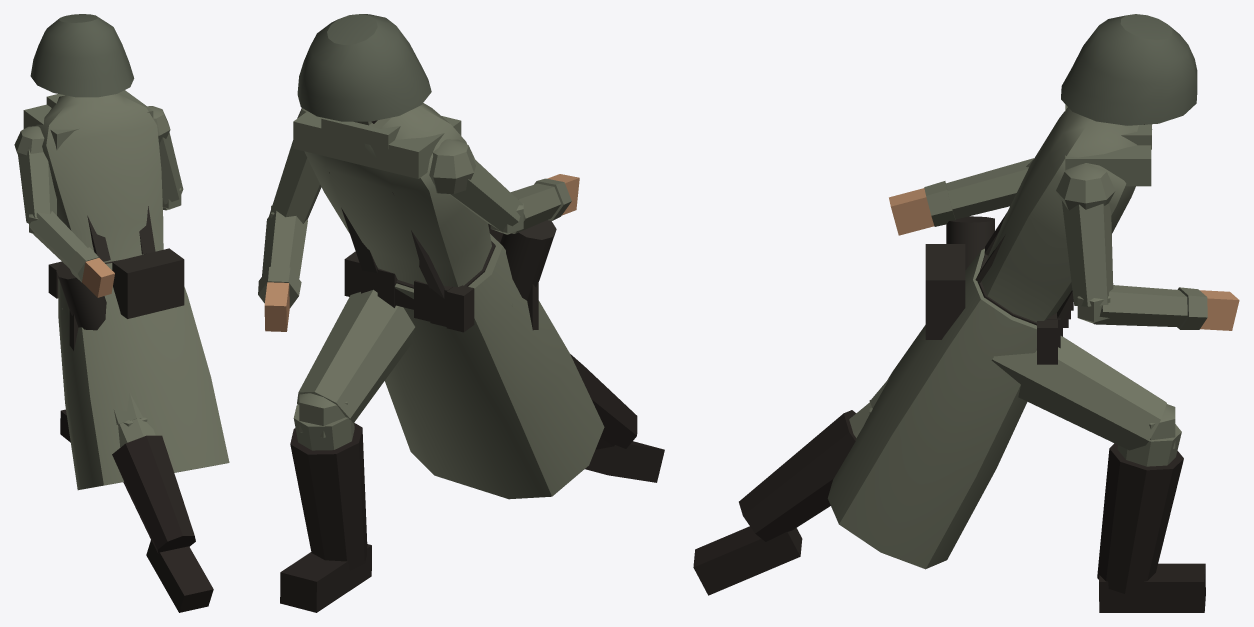
Rendered from soldier_de_coat_crouch_run.glb.
3 renders of one model, left to right at view 1: azimuth 30°, elevation 25°; view 2: azimuth 150°, elevation 25°; view 3: azimuth 270°, elevation 25°, orthographic. The views are drawn at different scales.
Parts seen in each view (by area): view 1: soldier_de_coat_crouch_run; view 2: soldier_de_coat_crouch_run; view 3: soldier_de_coat_crouch_run.
Boxes of the visible parts, x1,y1,x2,y2 form: soldier_de_coat_crouch_run: (14,14,229,612); soldier_de_coat_crouch_run: (258,14,664,612); soldier_de_coat_crouch_run: (693,14,1239,612).
Bounding box in the file's own units: 0.5971 × 1.5 × 1.24.
